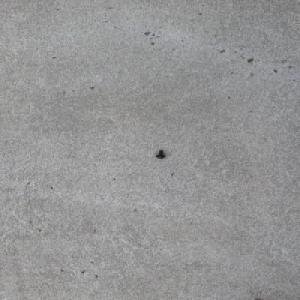BoltWasher: (154, 149, 166, 159)
